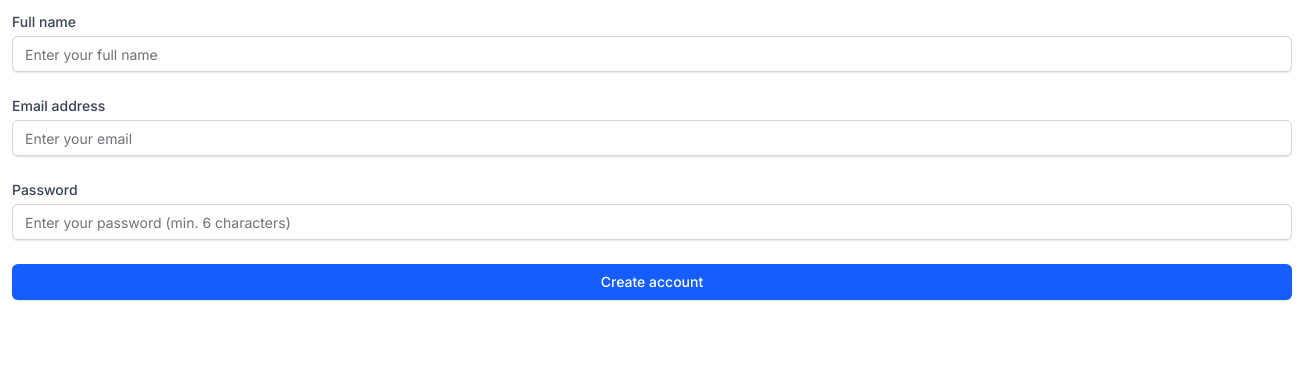
it: Authentication Components › RegisterForm › validates password length
# Enter short password
Type "123" into the password field labelled "Password" at (652, 222), box [12,204,1292,240]
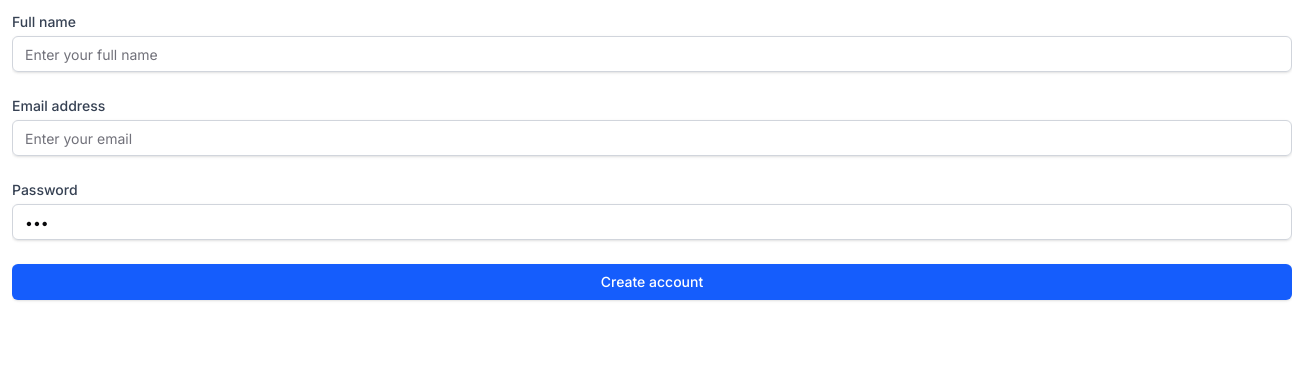
# Try to submit to trigger validation
Click the button "Create account" at (652, 282), box [12,264,1292,300]
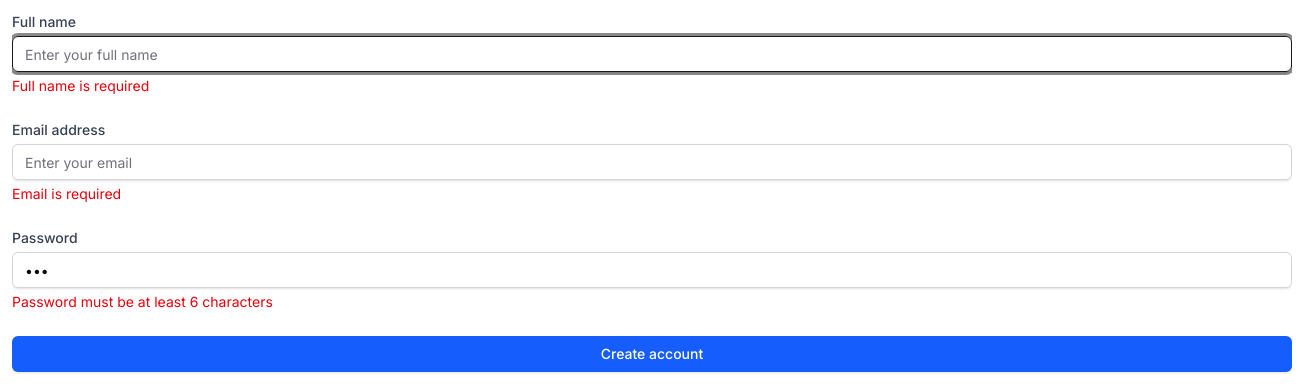
Check: the text "Password must be at least 6 characters" is shown, box [12,293,273,310]
